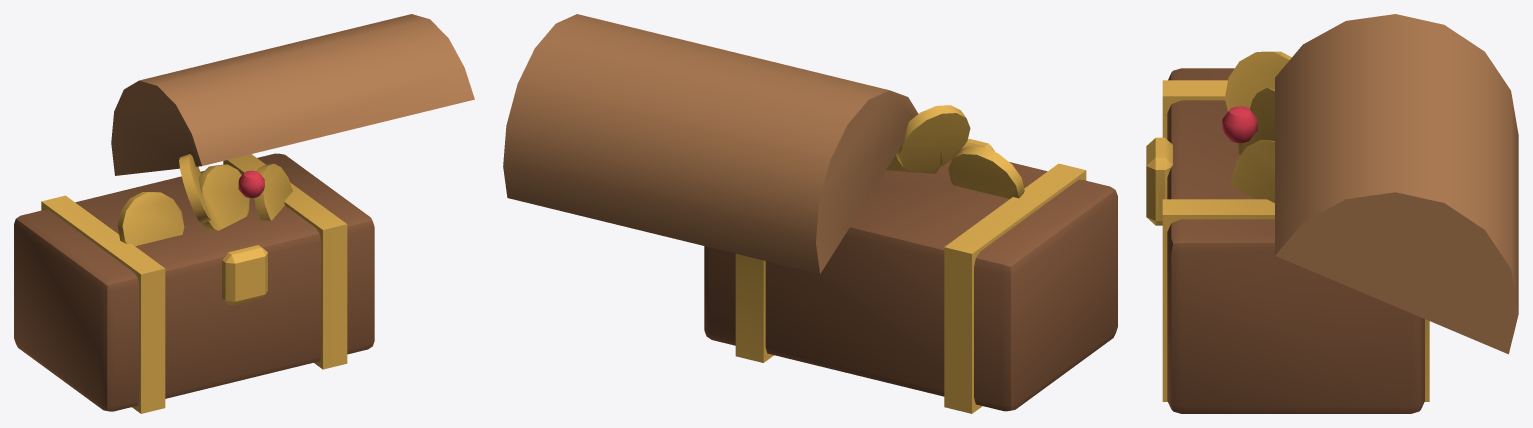
The model's file is icon_chest.glb.
3 views of the same model, side by side, from view 1: azimuth 30°, elevation 25°; view 2: azimuth 150°, elevation 25°; view 3: azimuth 270°, elevation 25° (orthographic). The views are drawn at different scales.
Parts seen in each view (by area): view 1: Chest; view 2: Chest; view 3: Chest.
Part boxes in pixels (bbox=[...]): Chest: bbox=[14, 14, 474, 413]; Chest: bbox=[503, 14, 1117, 413]; Chest: bbox=[1146, 14, 1518, 413].
Bounding box in the file's own units: 1.35 × 0.7547 × 0.7947.
Materials: 1 (1 with a texture image).
